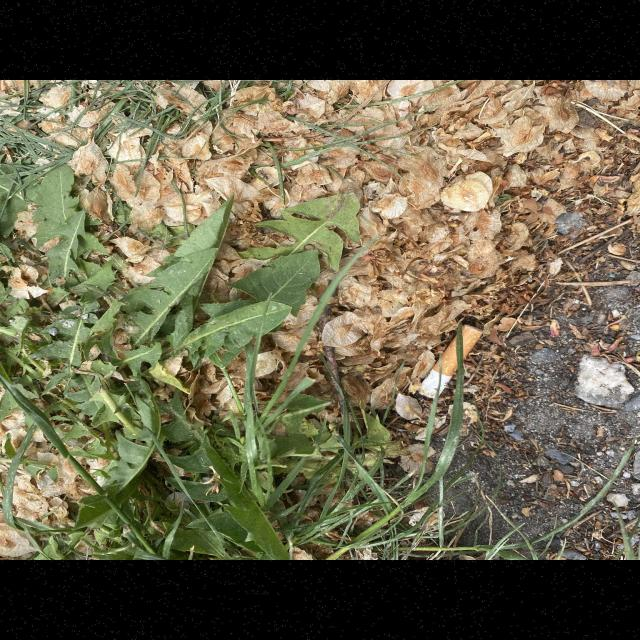other waste: (415, 324, 484, 400)
